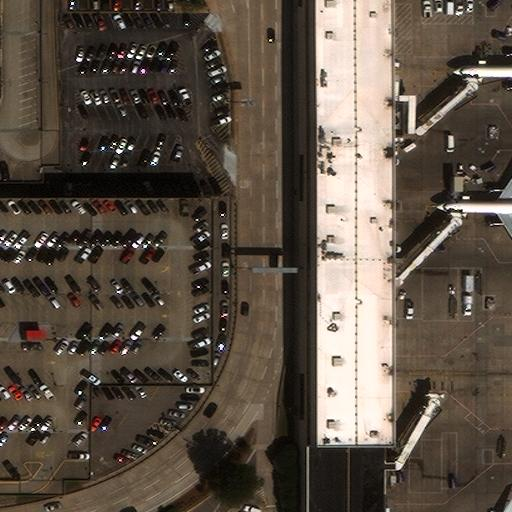Medium Civil Transport: (436, 164, 512, 251), (452, 37, 512, 105)
